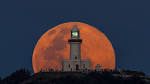moon: (31, 20, 116, 73)
